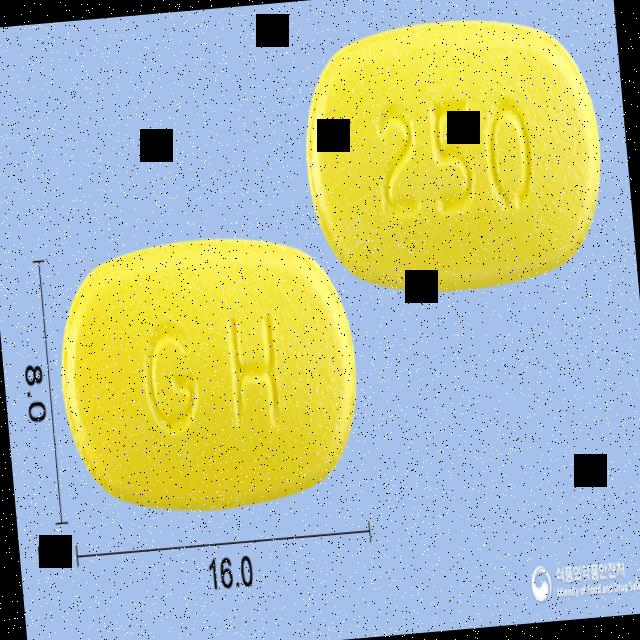Clana: (46, 220, 373, 528), (294, 2, 614, 309)
